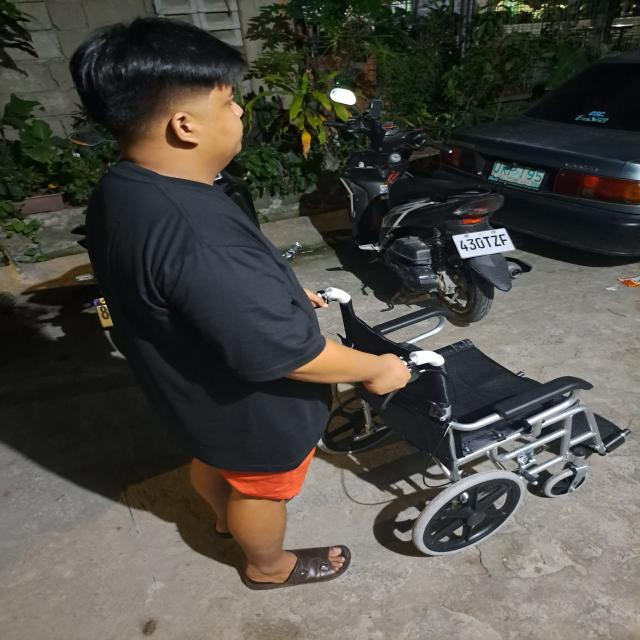wheelchairs: (310, 286, 634, 564)
